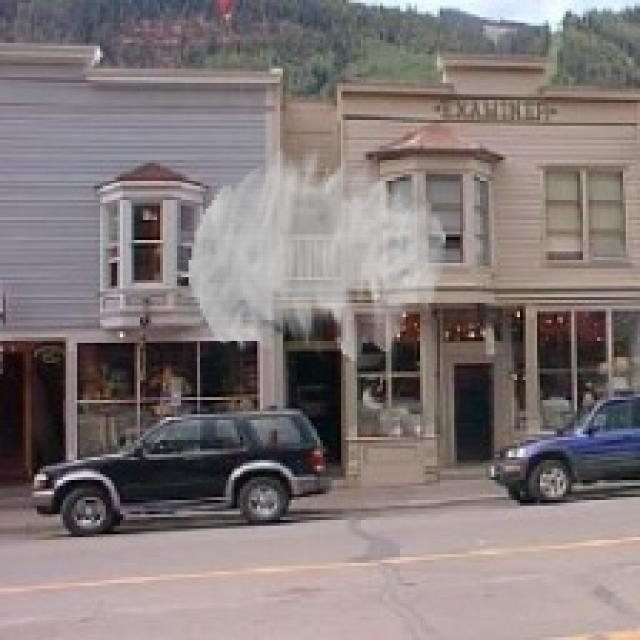Smoke: (188, 146, 446, 360)
